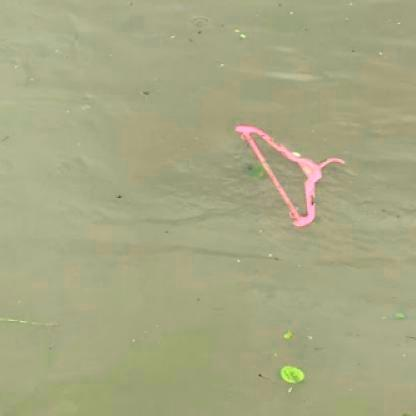Trash: (230, 118, 352, 235)
